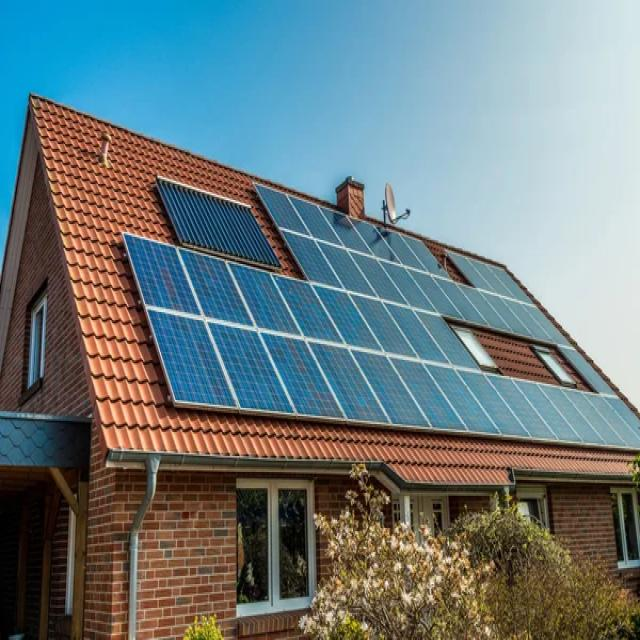clean-solar-panel: (125, 181, 640, 456)
